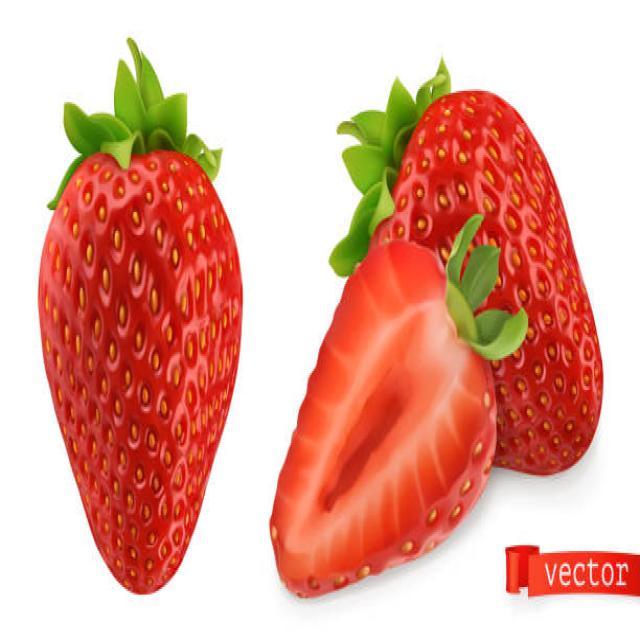Healthy Fruit: (37, 151, 242, 596), (368, 90, 603, 477), (272, 244, 496, 594)
